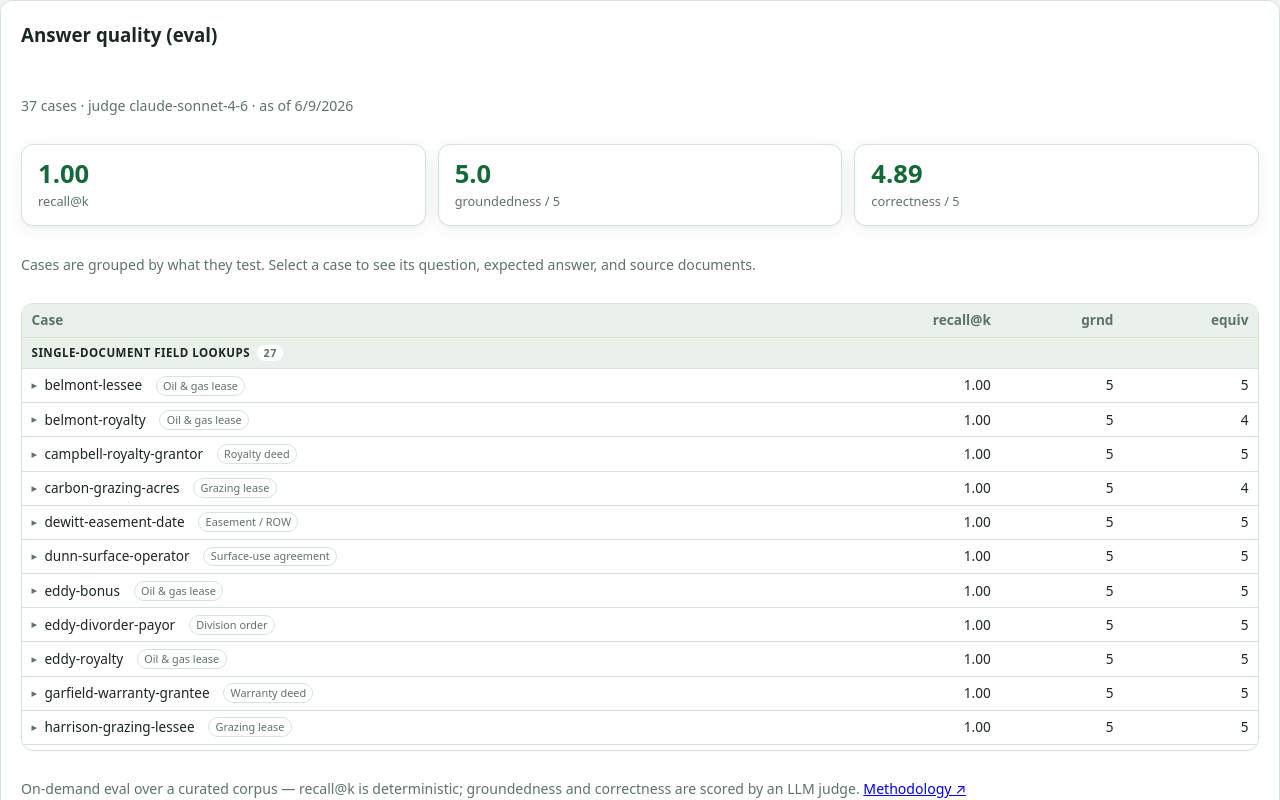
Test: expands a case to reveal its question, expected answer, and copy control
Click the button "▸ belmont-lessee Oil & gas lease": (93, 385) x1=22 y1=369 x2=816 y2=402
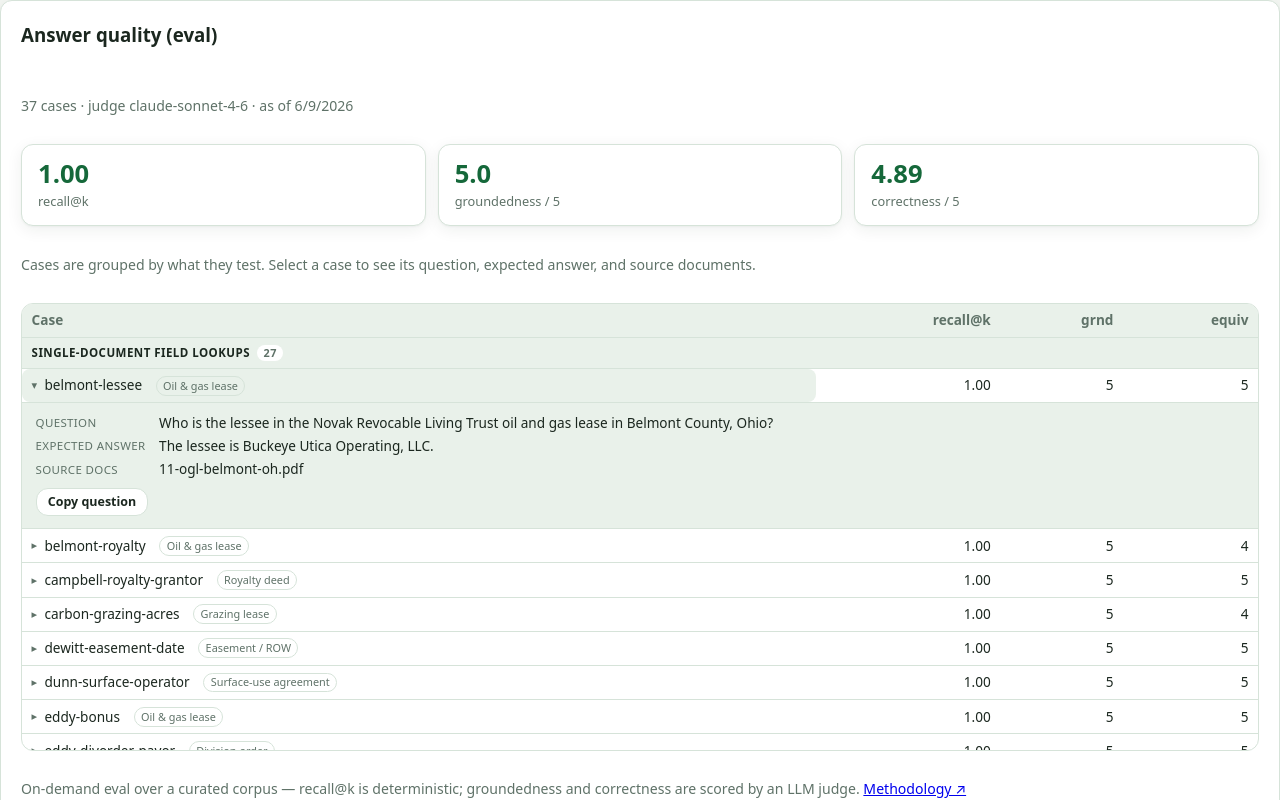
Expected: the text "Who is the lessee in the Novak Revocable Living Trust oil and gas lease in Belmont County, Ohio?" is shown, x1=159 y1=413 x2=773 y2=432
Expected: the text "The lessee is Buckeye Utica Operating, LLC." is shown, x1=159 y1=436 x2=434 y2=455
Expected: the button "Copy question" is shown, x1=36 y1=488 x2=148 y2=516
